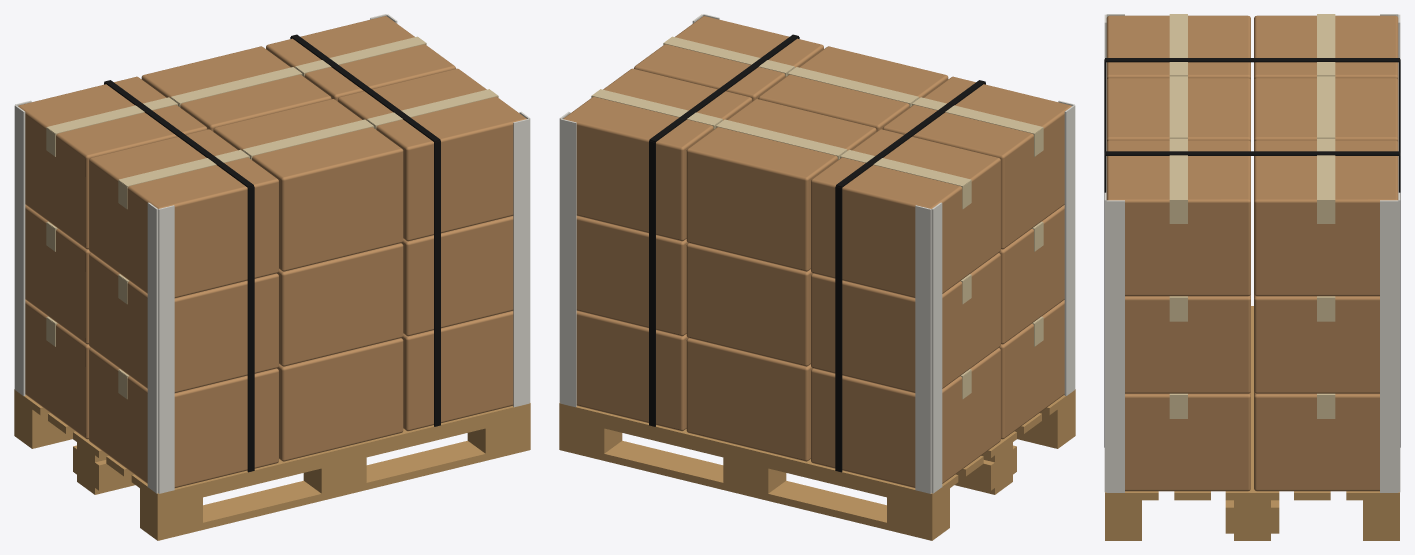
File: pallet-cartons.glb
The picture shows the model from 3 angles, left to right: view 1: azimuth 30°, elevation 25°; view 2: azimuth 150°, elevation 25°; view 3: azimuth 270°, elevation 25°; orthographic projection. The views are drawn at different scales.
Visible parts, largest first — view 1: cardboard, pallet_wood, edge_protector, packing_tape, label_black; view 2: cardboard, pallet_wood, edge_protector, packing_tape, label_black; view 3: cardboard, edge_protector, packing_tape, pallet_wood, label_black.
Boxes of the visible parts, left/top/right/bottom form: cardboard: left=18, top=16, right=526, bottom=487; pallet_wood: left=14, top=389, right=530, bottom=540; edge_protector: left=14, top=14, right=530, bottom=493; packing_tape: left=46, top=36, right=498, bottom=399; label_black: left=104, top=34, right=440, bottom=472; cardboard: left=563, top=16, right=1071, bottom=487; pallet_wood: left=559, top=389, right=1075, bottom=540; edge_protector: left=559, top=14, right=1075, bottom=493; packing_tape: left=591, top=36, right=1043, bottom=399; label_black: left=649, top=34, right=985, bottom=472; cardboard: left=1106, top=15, right=1398, bottom=491; edge_protector: left=1104, top=14, right=1400, bottom=492; packing_tape: left=1169, top=14, right=1335, bottom=418; pallet_wood: left=1105, top=306, right=1399, bottom=540; label_black: left=1104, top=58, right=1400, bottom=447.
Bounding box in the file's own units: 1.2 × 1.02 × 0.804.
